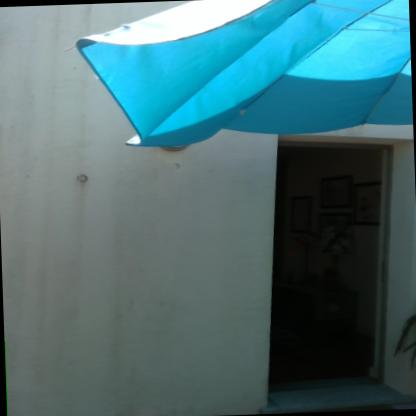open: (248, 122, 416, 411)
